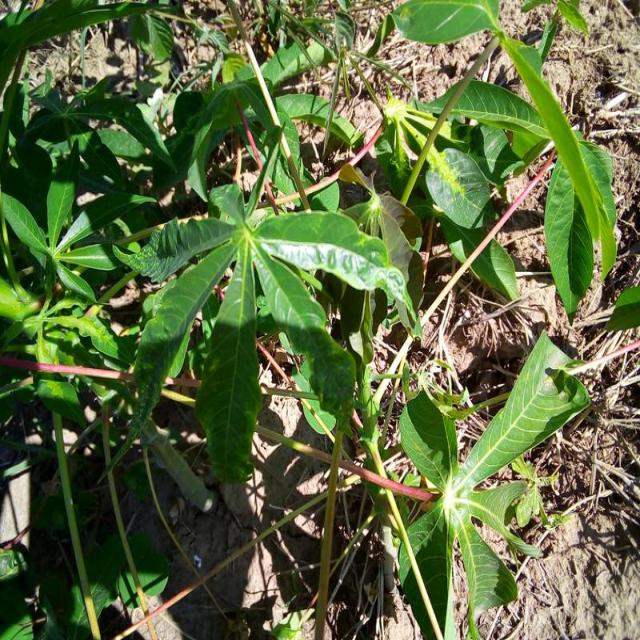cassava leaf: (117, 177, 416, 483), (394, 328, 590, 638)
